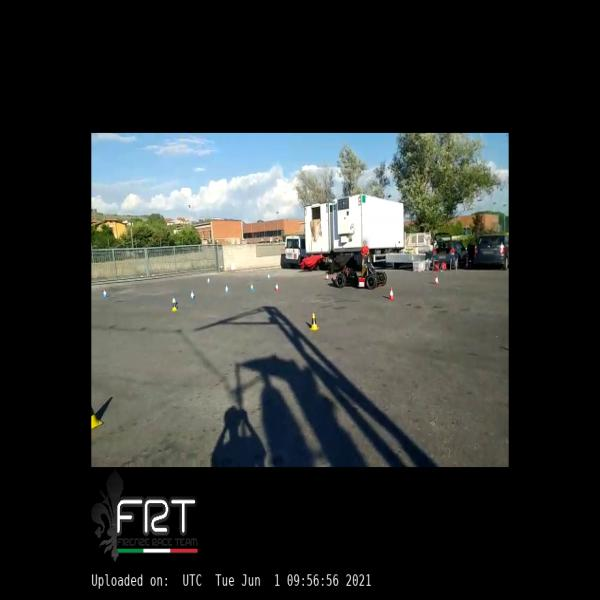blue_cone: (173, 295, 178, 306), (190, 290, 195, 300), (224, 285, 229, 293), (249, 283, 254, 291), (266, 273, 271, 281), (206, 277, 210, 285), (103, 290, 107, 298)
orange_cone: (388, 286, 394, 300), (435, 275, 440, 285), (274, 282, 279, 291), (325, 273, 329, 280)
yellow_cone: (92, 389, 104, 428), (309, 314, 318, 330), (171, 299, 177, 311)
